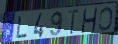4: (33, 12, 45, 39)
9: (49, 11, 63, 37)
H: (81, 8, 99, 33)
L: (15, 15, 28, 39)
O: (98, 6, 113, 32)
T: (67, 9, 80, 36)
